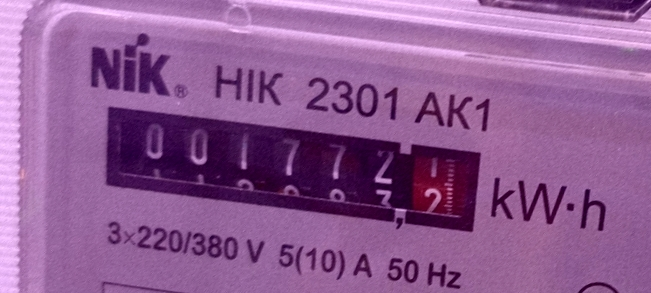0: (138, 118, 171, 162), (185, 125, 214, 167)
1: (234, 131, 256, 172), (426, 155, 443, 182)
2: (371, 148, 399, 188), (418, 184, 445, 216)
3: (372, 187, 397, 211)
7: (276, 136, 304, 179), (322, 142, 349, 183)
screen: (85, 86, 503, 253)
